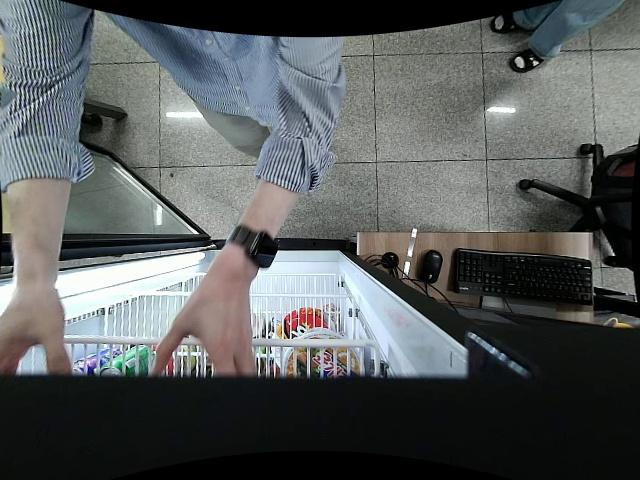00_hand: (145, 283, 257, 378), (0, 284, 73, 376)
